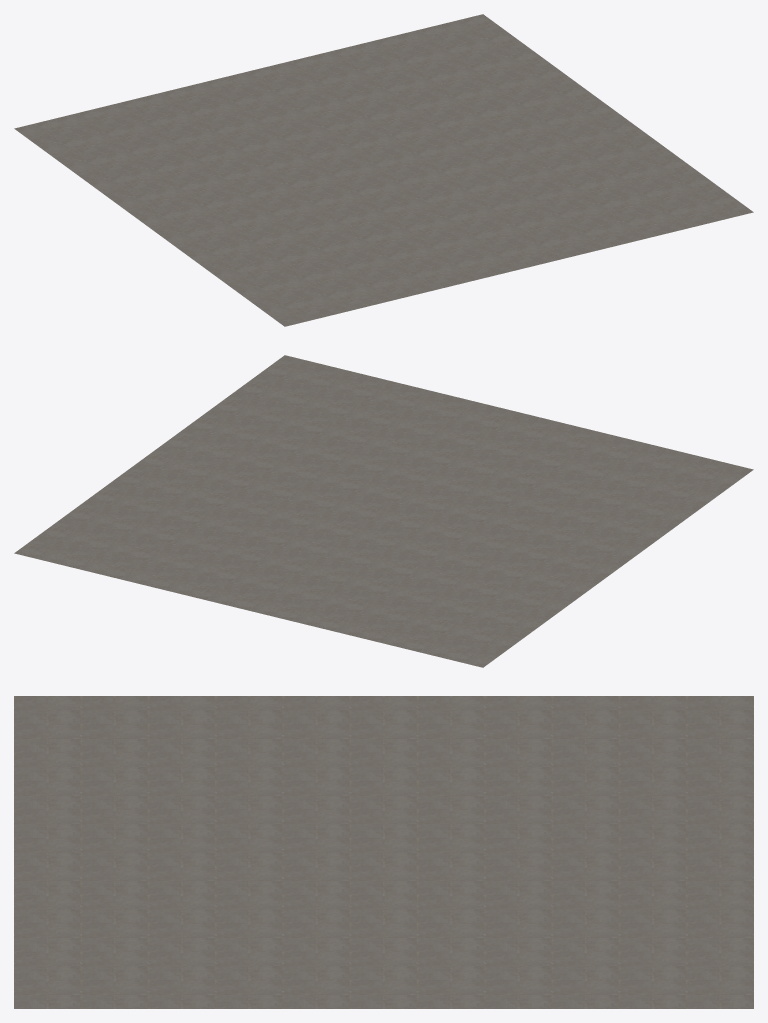
File: Floor.obj
The picture shows the model from 3 angles, top to bottom: view 1: azimuth 30°, elevation 25°; view 2: azimuth 150°, elevation 25°; view 3: azimuth 270°, elevation 25°; orthographic projection. The views are drawn at different scales.
Visible parts, largest first — view 1: Plane; view 2: Plane; view 3: Plane.
Part boxes in pixels (box(x1,y1,x2,y2)): Plane: box(14, 14, 753, 326); Plane: box(14, 355, 753, 667); Plane: box(14, 696, 753, 1008).
Bounding box in the file's own units: 20 × 0 × 20.
1 material, 1 textured.
